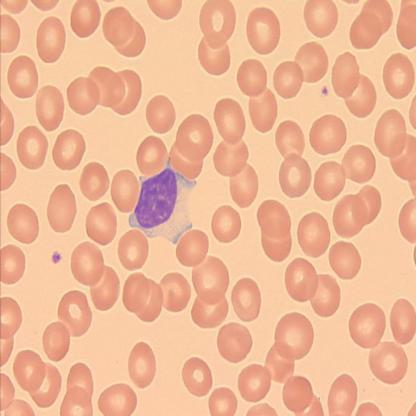Atypical lymphocyte: (128, 157, 196, 246)
